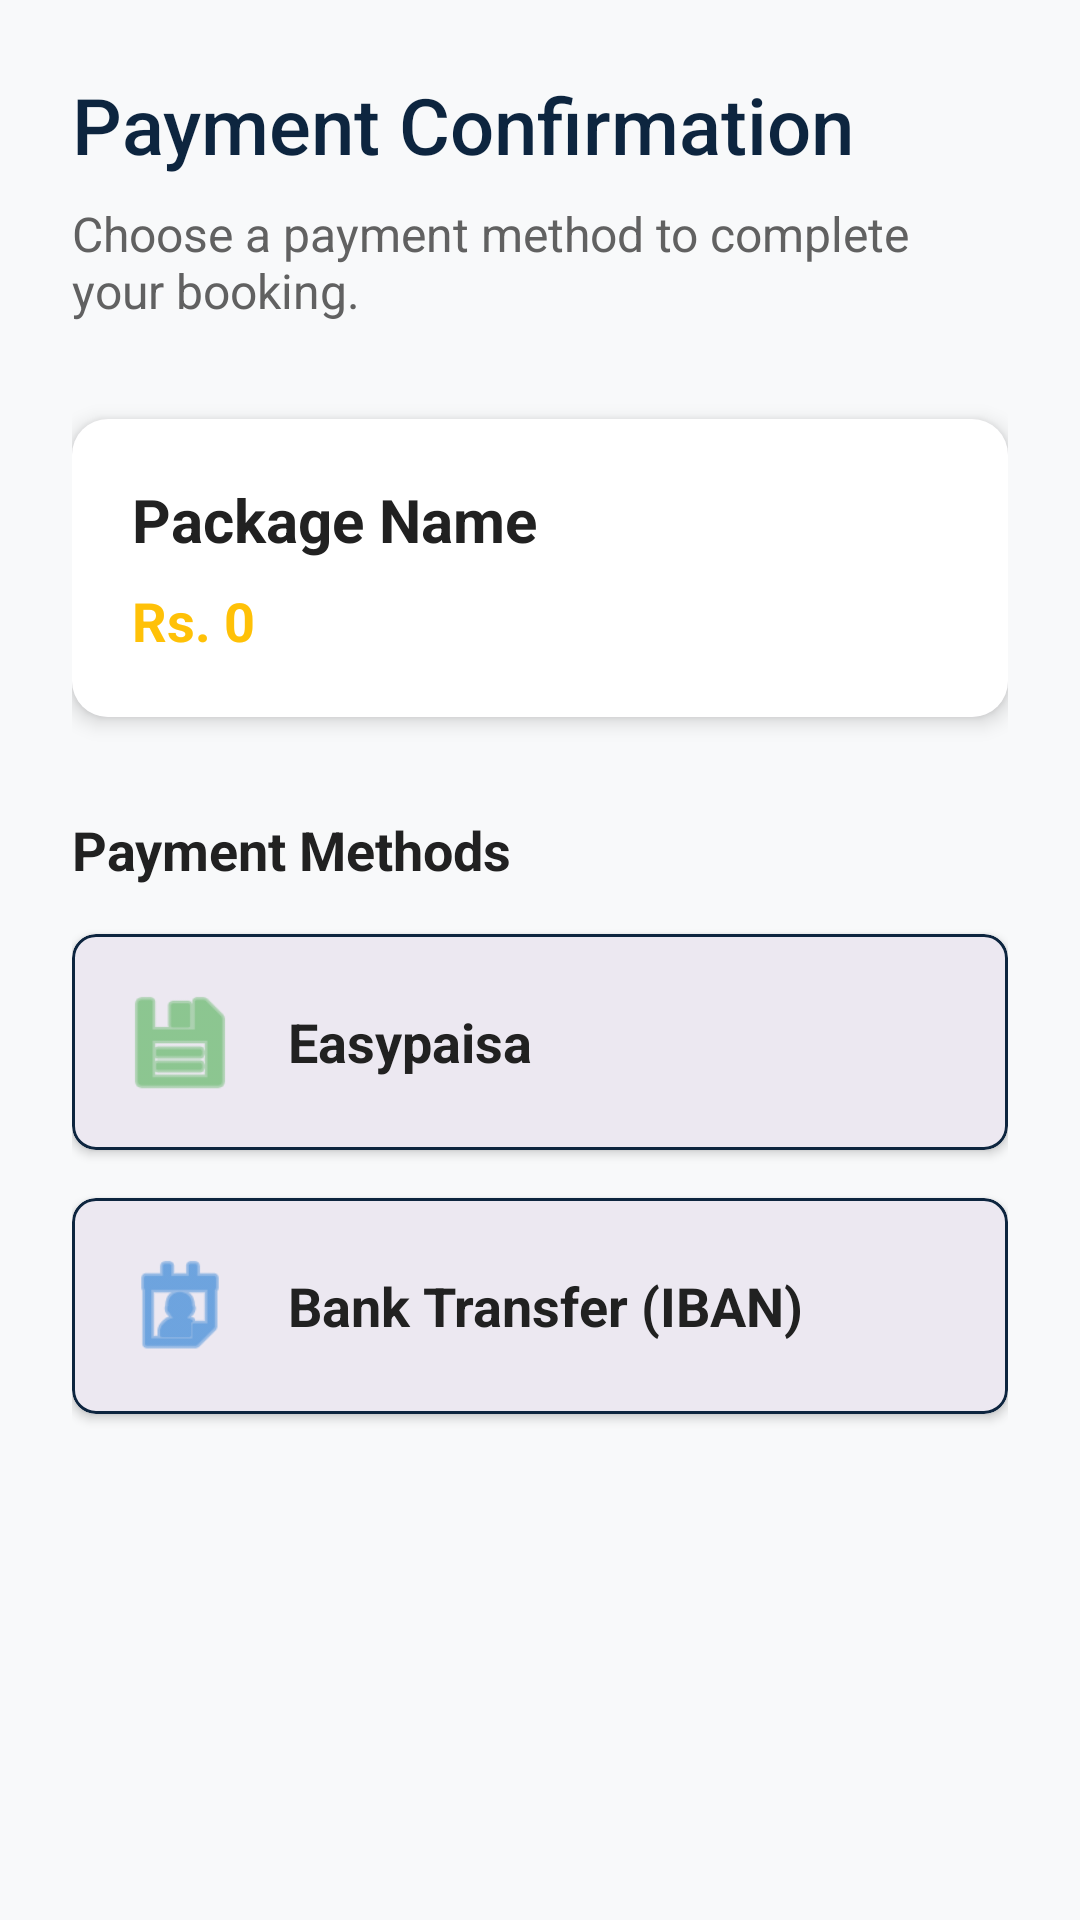

Icon click points for this 1080×1920 phone screenshot, format (x=x, y=y):
calendar: (x=180, y=1305)
save: (x=180, y=1042)
